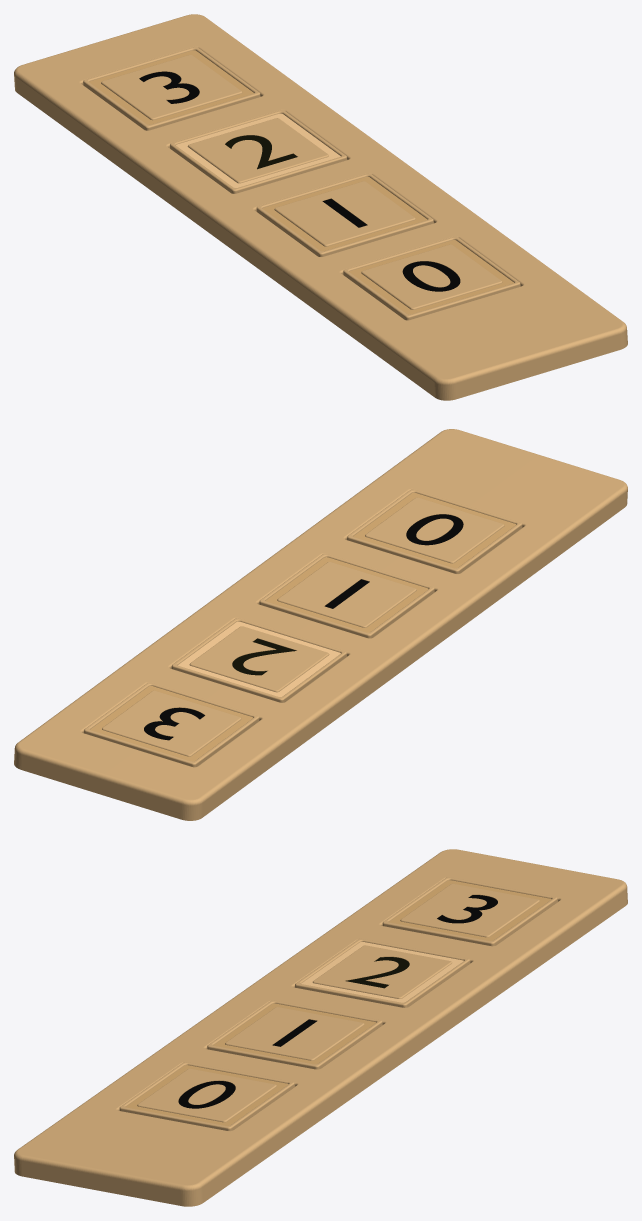
3 views of the same model, one above another, from view 1: azimuth 30°, elevation 25°; view 2: azimuth 150°, elevation 25°; view 3: azimuth 330°, elevation 25° (orthographic).
Parts seen in each view (by area): view 1: PANEL 1; view 2: PANEL 1; view 3: PANEL 1.
Part boxes in pixels (box(x1,y1,x2,y2)): PANEL 1: box(14, 14, 627, 400); PANEL 1: box(14, 429, 627, 820); PANEL 1: box(14, 849, 627, 1206).
Bounding box in the file's own units: 5.17 × 0.9586 × 20.03.
